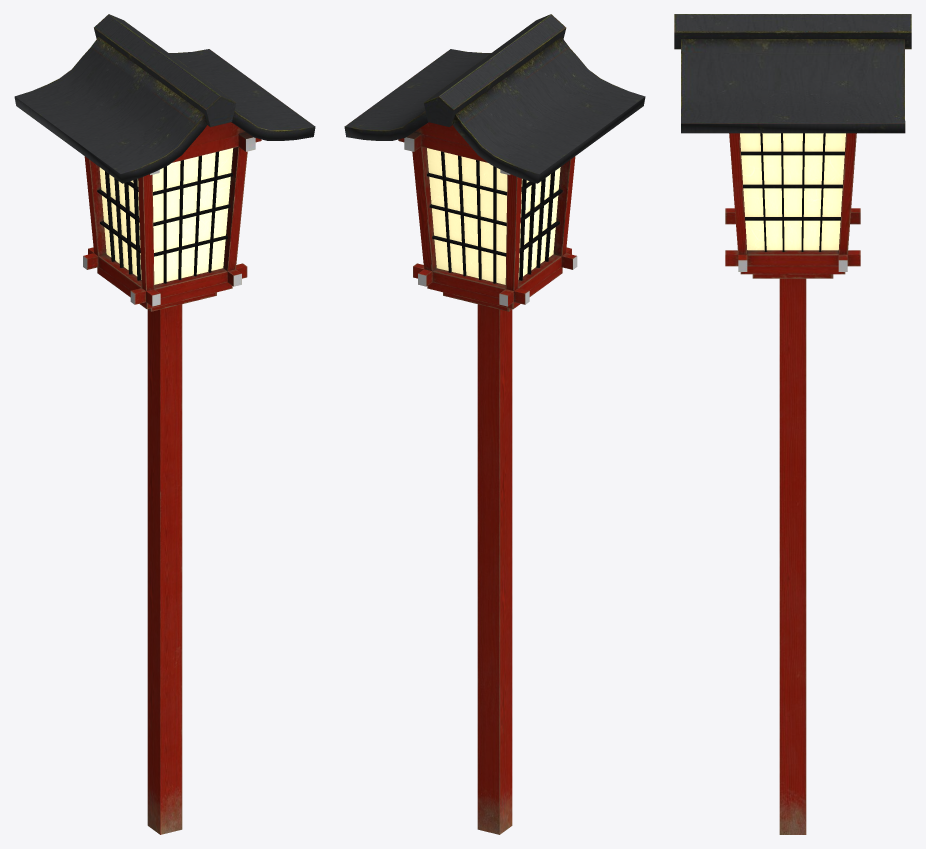
The picture shows the model from 3 angles, left to right: view 1: azimuth 30°, elevation 25°; view 2: azimuth 150°, elevation 25°; view 3: azimuth 270°, elevation 25°; orthographic projection. The views are drawn at different scales.
Parts seen in each view (by area): view 1: KenToro; view 2: KenToro; view 3: KenToro.
Boxes of the visible parts, x1=… form: KenToro: x1=14, y1=14, x2=315, y2=834; KenToro: x1=344, y1=14, x2=645, y2=834; KenToro: x1=674, y1=14, x2=911, y2=834.
Size of the model in its own units: 0.6043 by 2.29 by 0.6042.
Materials: 1 (1 with a texture image).
